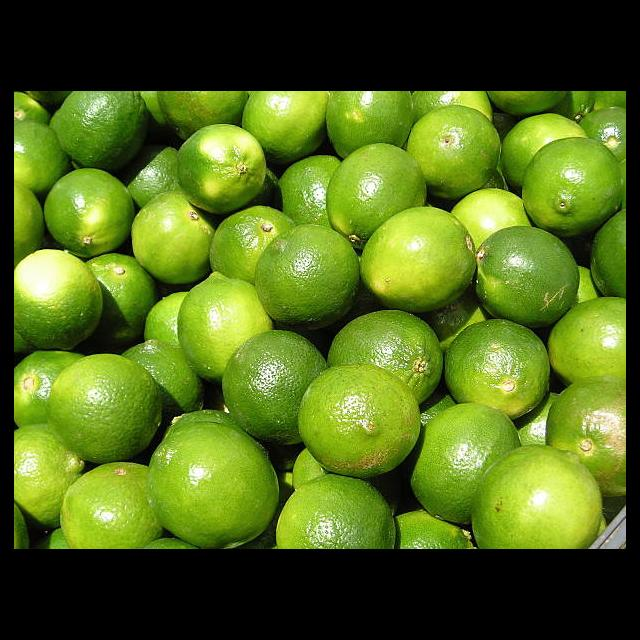lime: (146, 424, 278, 547), (294, 362, 422, 483), (470, 225, 595, 342), (324, 141, 429, 244), (14, 249, 107, 354), (173, 123, 273, 215)
